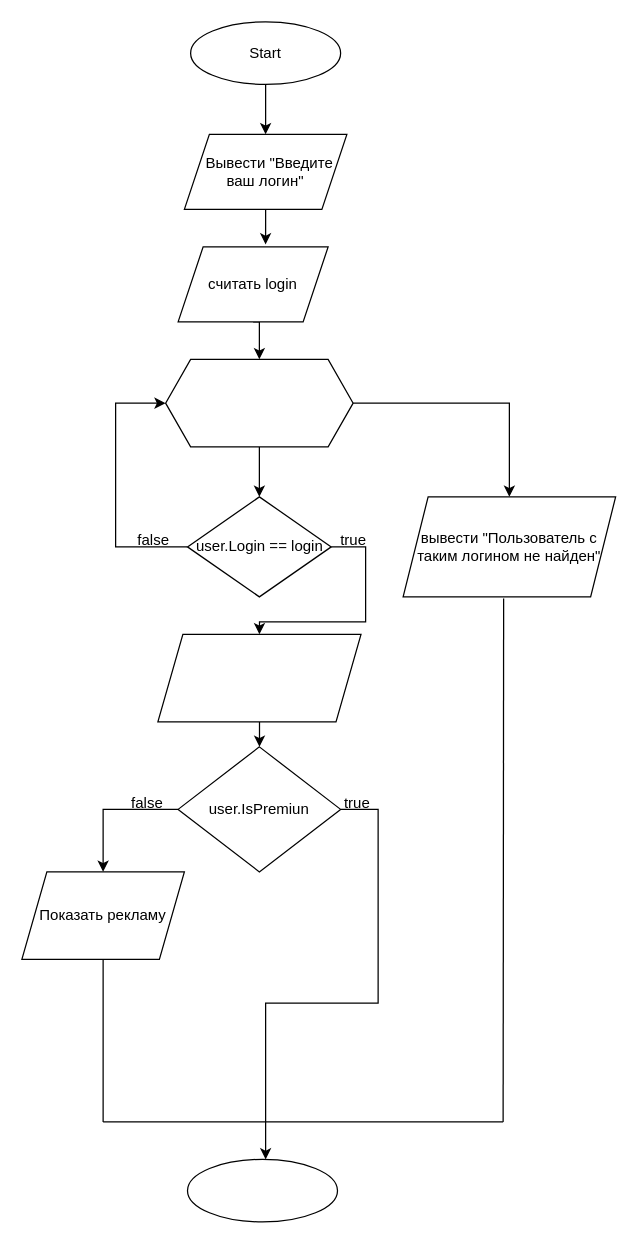
Image size: 638x1244. Some labels were removed from this diagram. Each missing label, with the centre of its shape:
End: the point at 262,1190
foreach user: the point at 258,402
Поприветствовать пользователя по имени: the point at 259,677
